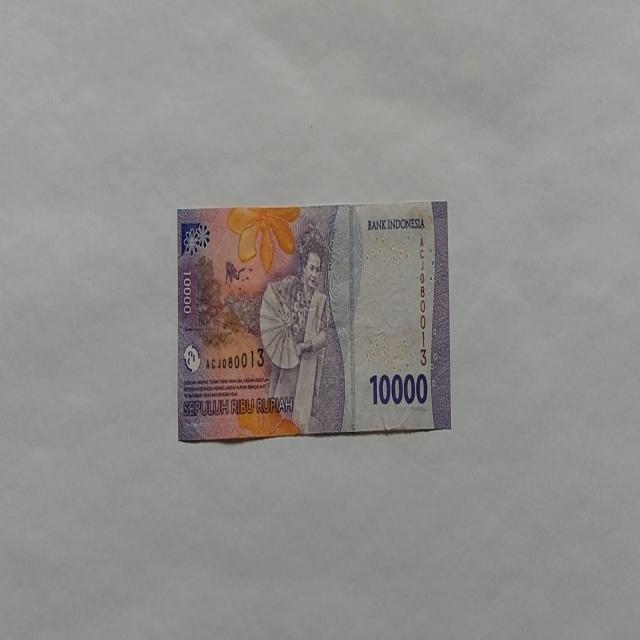sepuluh ribu rupiah: (176, 200, 452, 443)
